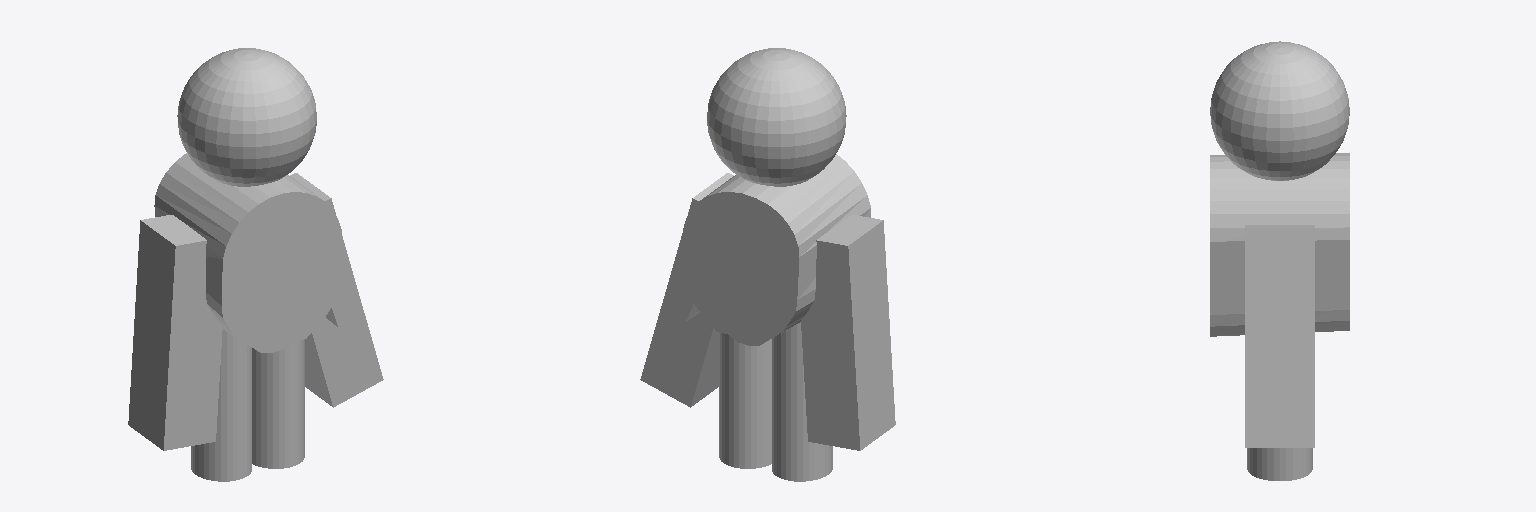
The model's file is Figurine59.obj.
The picture shows the model from 3 angles: view 1: azimuth 30°, elevation 25°; view 2: azimuth 150°, elevation 25°; view 3: azimuth 270°, elevation 25°; orthographic projection.
Visible parts, largest first — view 1: Cylinder; view 2: Cylinder; view 3: Cylinder.
Boxes of the visible parts, <box> form: Cylinder: <box>128,48,383,481</box>; Cylinder: <box>640,48,895,481</box>; Cylinder: <box>1210,41,1349,480</box>.
Size of the model in its own units: 3.63 by 6.42 by 2.